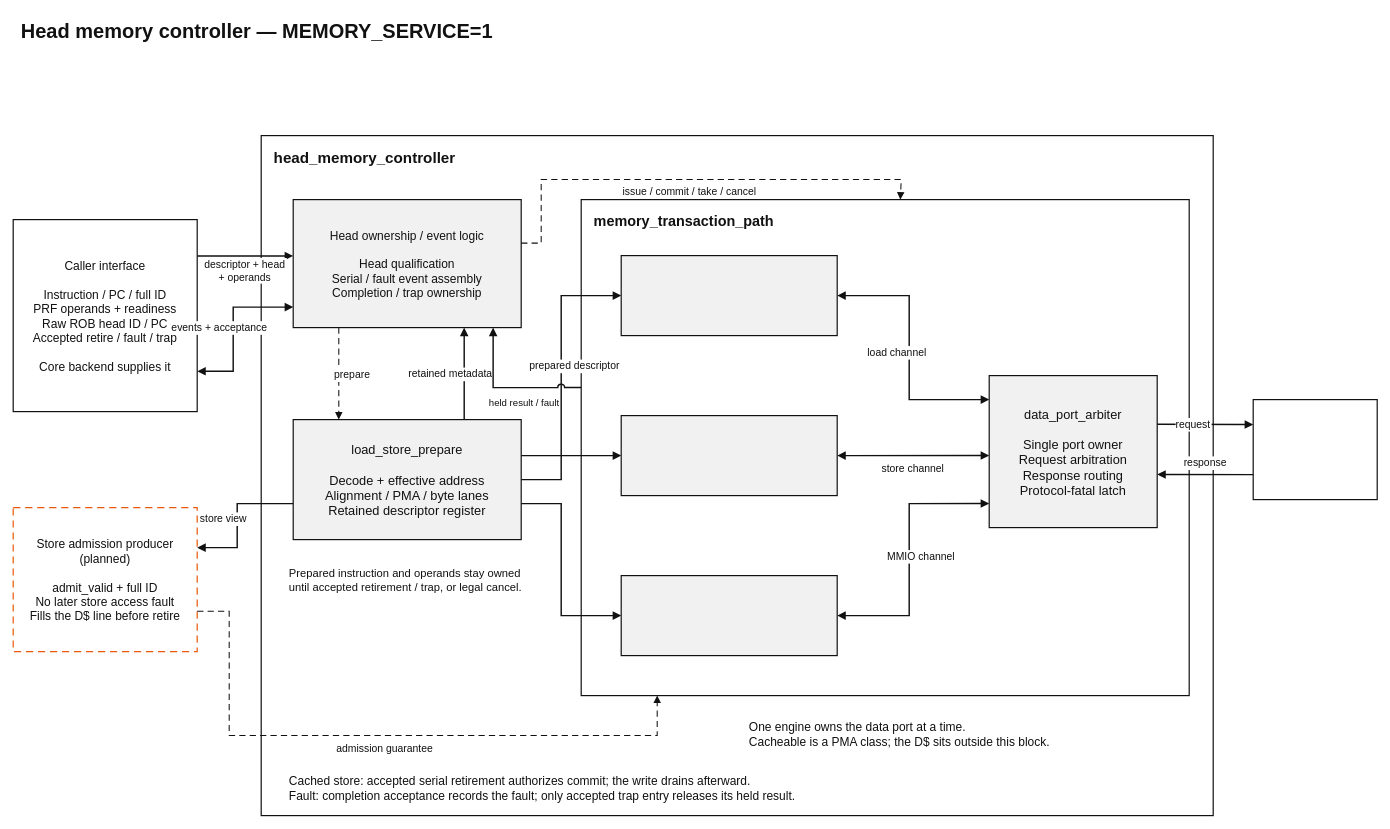
The diagram is 1390 pixels wide and 829 high, and some of its shapes have lost their labels. Each missing label, with the centre of its shape:
committed_store Cacheable store Commit first, then drain: (728,455)
L1 D$ (cached core) or data port External target: (1314,449)
load_transaction Cacheable or MMIO load Held result / fault: (728,295)
mmio_store_transaction MMIO store / local store fault Held result / fault: (728,615)
